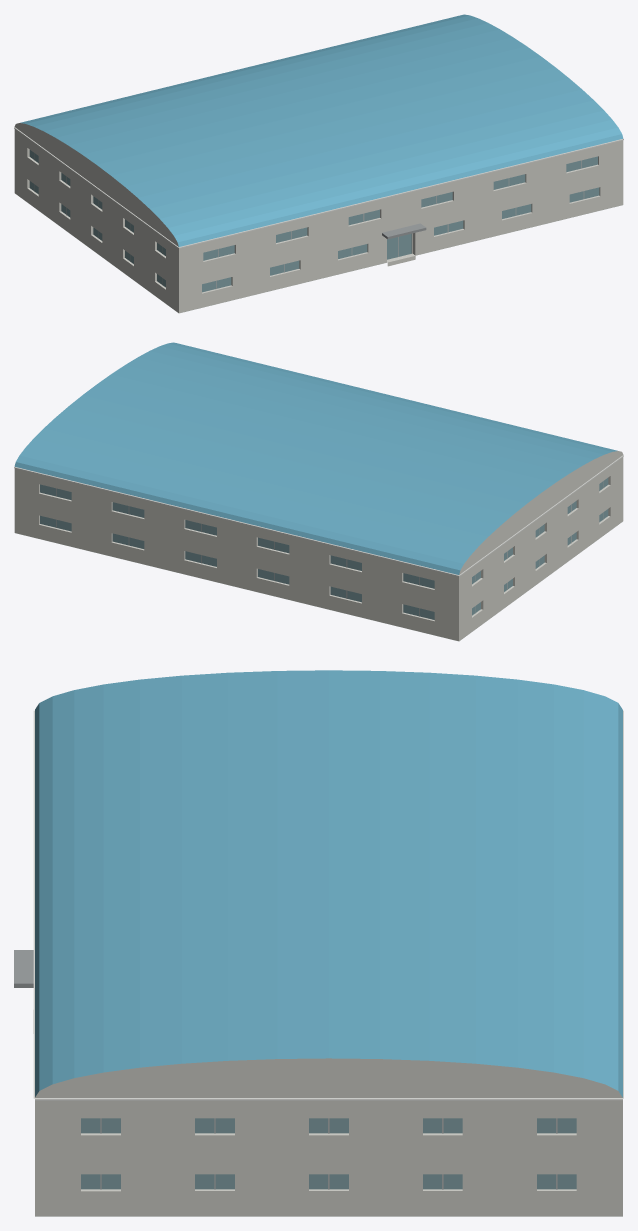
3 views of the same model, one above another, from view 1: azimuth 30°, elevation 25°; view 2: azimuth 150°, elevation 25°; view 3: azimuth 270°, elevation 25° (orthographic). The views are drawn at different scales.
Parts seen in each view (by area): view 1: leports__vaultRoof, leports__wall, leports__glass, leports__vaultEnd, leports__parapet, leports__trim; view 2: leports__vaultRoof, leports__wall, leports__glass, leports__vaultEnd, leports__parapet, leports__trim; view 3: leports__vaultRoof, leports__wall, leports__vaultEnd, leports__glass, leports__trim, leports__parapet, leports__canopy.
Part boxes in pixels (bbox=[...]): leports__vaultRoof: bbox=[20, 14, 623, 246]; leports__wall: bbox=[14, 131, 623, 313]; leports__glass: bbox=[29, 150, 599, 292]; leports__vaultEnd: bbox=[14, 123, 178, 246]; leports__parapet: bbox=[14, 129, 623, 250]; leports__trim: bbox=[14, 127, 623, 248]; leports__vaultRoof: bbox=[14, 342, 617, 574]; leports__wall: bbox=[14, 459, 623, 641]; leports__glass: bbox=[40, 478, 608, 619]; leports__vaultEnd: bbox=[459, 451, 623, 574]; leports__parapet: bbox=[14, 457, 623, 578]; leports__trim: bbox=[14, 455, 623, 576]; leports__vaultRoof: bbox=[35, 670, 622, 1097]; leports__wall: bbox=[35, 1104, 622, 1216]; leports__vaultEnd: bbox=[35, 1058, 622, 1097]; leports__glass: bbox=[81, 1118, 576, 1189]; leports__trim: bbox=[33, 710, 623, 1100]; leports__parapet: bbox=[35, 1100, 622, 1104]; leports__canopy: bbox=[14, 950, 33, 987].
Size of the model in its own units: 50.73 by 10 by 33.62.
